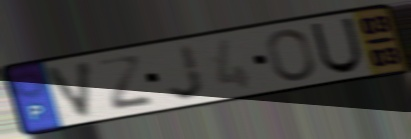4: (213, 35, 254, 93)
J: (165, 42, 208, 102)
O: (265, 27, 318, 83)
U: (308, 15, 365, 76)
V: (43, 57, 96, 120)
Z: (94, 53, 157, 113)
